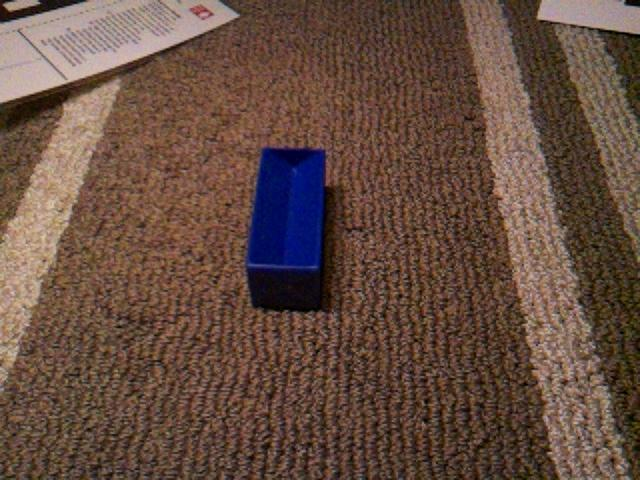blue: (245, 145, 328, 313)
